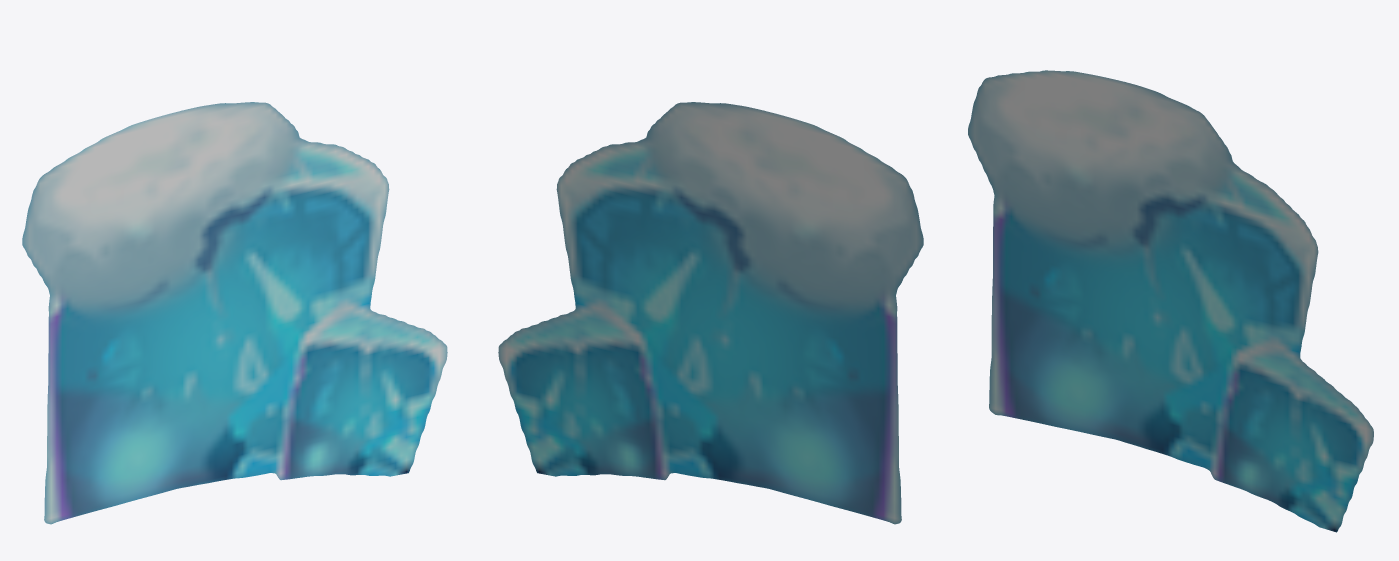
The model's file is Chapter3Scene1Model9.FBX.
3 views of the same model, side by side, from view 1: azimuth 30°, elevation 25°; view 2: azimuth 150°, elevation 25°; view 3: azimuth 330°, elevation 25° (orthographic). The views are drawn at different scales.
Visible parts, largest first — view 1: Chapter3Scene1Model9; view 2: Chapter3Scene1Model9; view 3: Chapter3Scene1Model9.
Part boxes in pixels (x1=…): Chapter3Scene1Model9: x1=22, y1=102, x2=447, y2=524; Chapter3Scene1Model9: x1=498, y1=102, x2=923, y2=524; Chapter3Scene1Model9: x1=968, y1=70, x2=1373, y2=532.
Size of the model in its own units: 78.27 by 6.36e-05 by 75.6.
